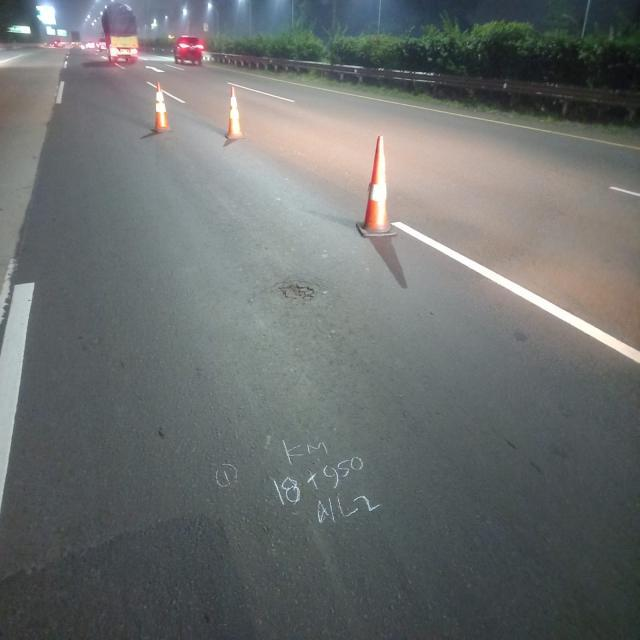Buraco: (277, 283, 318, 303)
